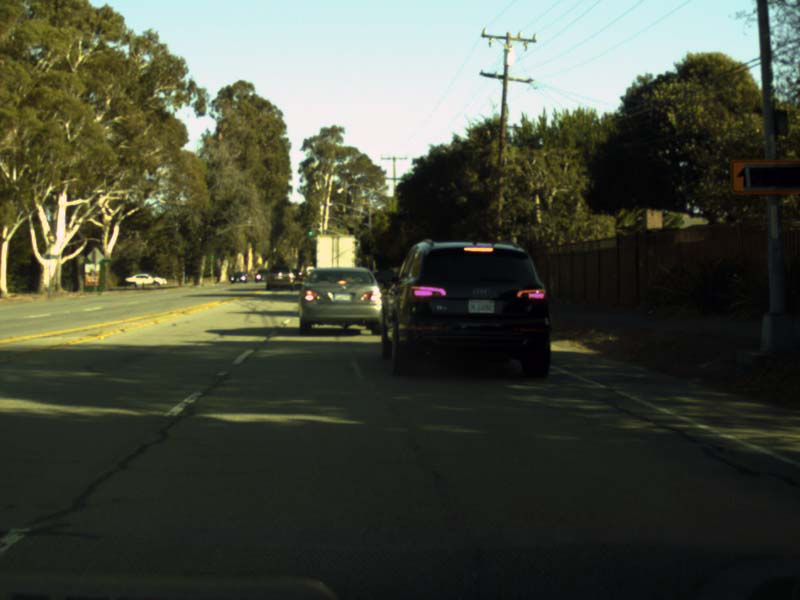Green: (307, 224, 313, 236)
